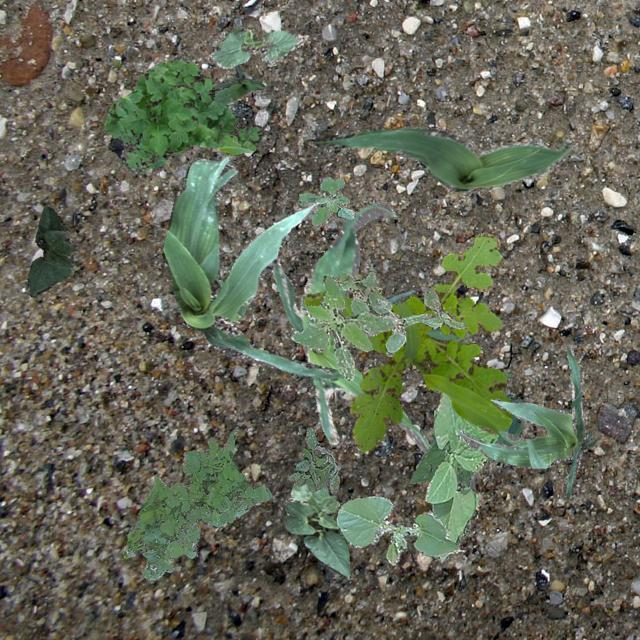crop: (160, 156, 344, 380), (270, 202, 430, 452), (454, 346, 596, 498), (314, 126, 572, 190), (408, 370, 524, 486), (423, 392, 498, 560), (300, 288, 470, 340), (336, 496, 460, 564), (284, 480, 349, 576), (27, 206, 78, 296), (210, 26, 302, 68), (212, 63, 264, 104)
weed: (303, 232, 512, 452), (122, 426, 270, 578), (104, 58, 262, 174), (290, 274, 398, 379), (332, 272, 468, 354), (286, 427, 340, 492), (297, 176, 353, 224)
